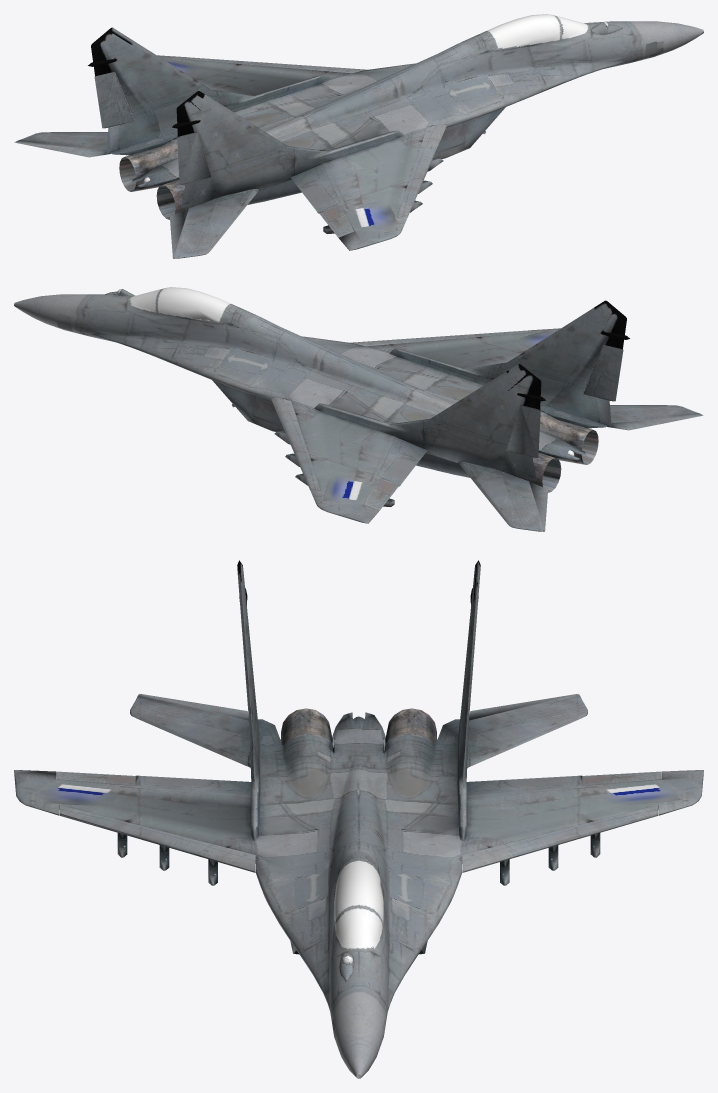
Rendered from mig29.glb.
3 renders of one model, top to bottom at view 1: azimuth 30°, elevation 25°; view 2: azimuth 150°, elevation 25°; view 3: azimuth 270°, elevation 25°, orthographic. The views are drawn at different scales.
Parts seen in each view (by area): view 1: g_mig29_hull; view 2: g_mig29_hull; view 3: g_mig29_hull.
Boxes of the visible parts, left/top/right/bottom form: g_mig29_hull: left=14, top=14, right=703, bottom=258; g_mig29_hull: left=14, top=287, right=703, bottom=531; g_mig29_hull: left=14, top=560, right=703, bottom=1078.
Bounding box in the file's own units: 17.31 × 4.18 × 12.27.
Materials: 1 (1 with a texture image).
